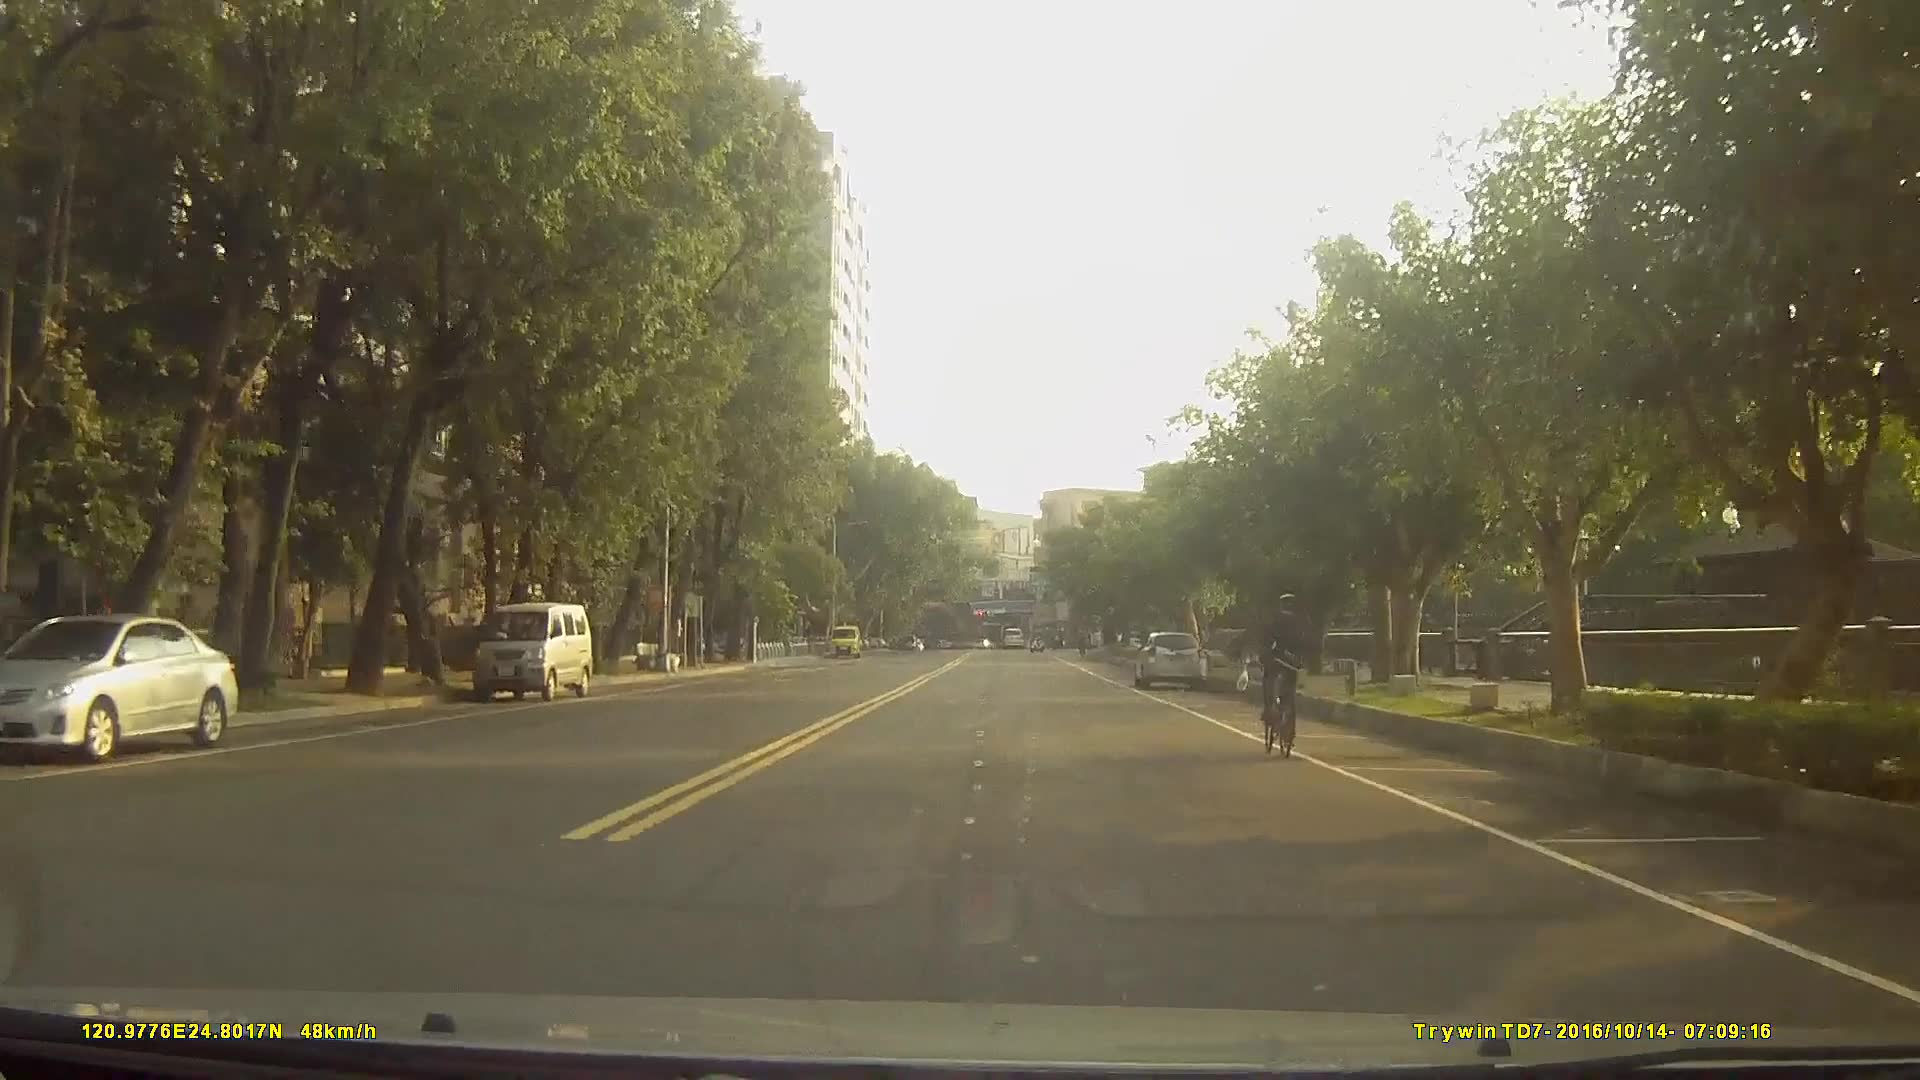rider: (1263, 590, 1308, 754)
vehicle: (0, 611, 237, 762), (471, 600, 593, 702), (1131, 628, 1208, 691), (1001, 624, 1025, 651)
